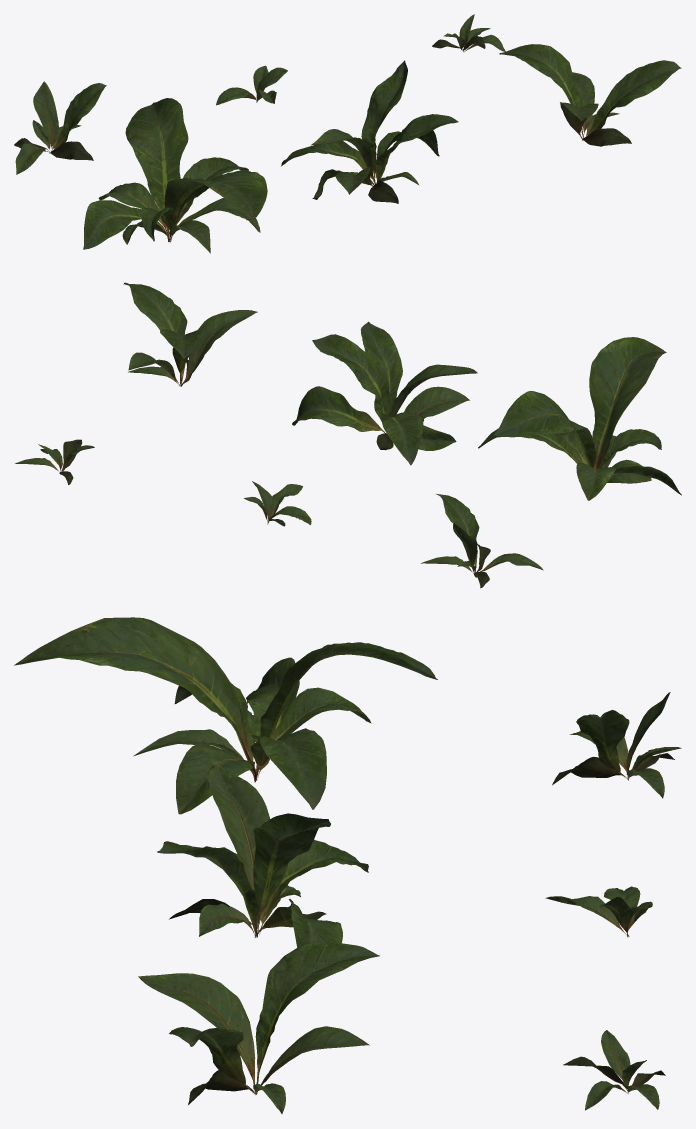
Rendered from anthurium_botany_01.glb.
The picture shows the model from 3 angles, top to bottom: view 1: azimuth 30°, elevation 25°; view 2: azimuth 150°, elevation 25°; view 3: azimuth 270°, elevation 25°; orthographic projection. The views are drawn at different scales.
Parts seen in each view (by area): view 1: anthurium_botany_01_a; view 2: anthurium_botany_01_a; view 3: anthurium_botany_01_a.
Part boxes in pixels (left/top/right/bottom): anthurium_botany_01_a: left=14, top=14, right=681, bottom=253; anthurium_botany_01_a: left=15, top=282, right=681, bottom=588; anthurium_botany_01_a: left=14, top=617, right=681, bottom=1113.
Size of the model in its own units: 2.8 by 0.4994 by 1.8.
1 material, 1 textured.
